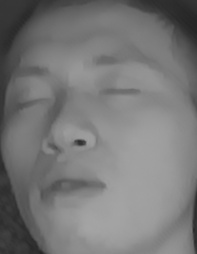blink: (97, 80, 144, 106), (11, 90, 53, 116)
mouth: (33, 158, 111, 209)
